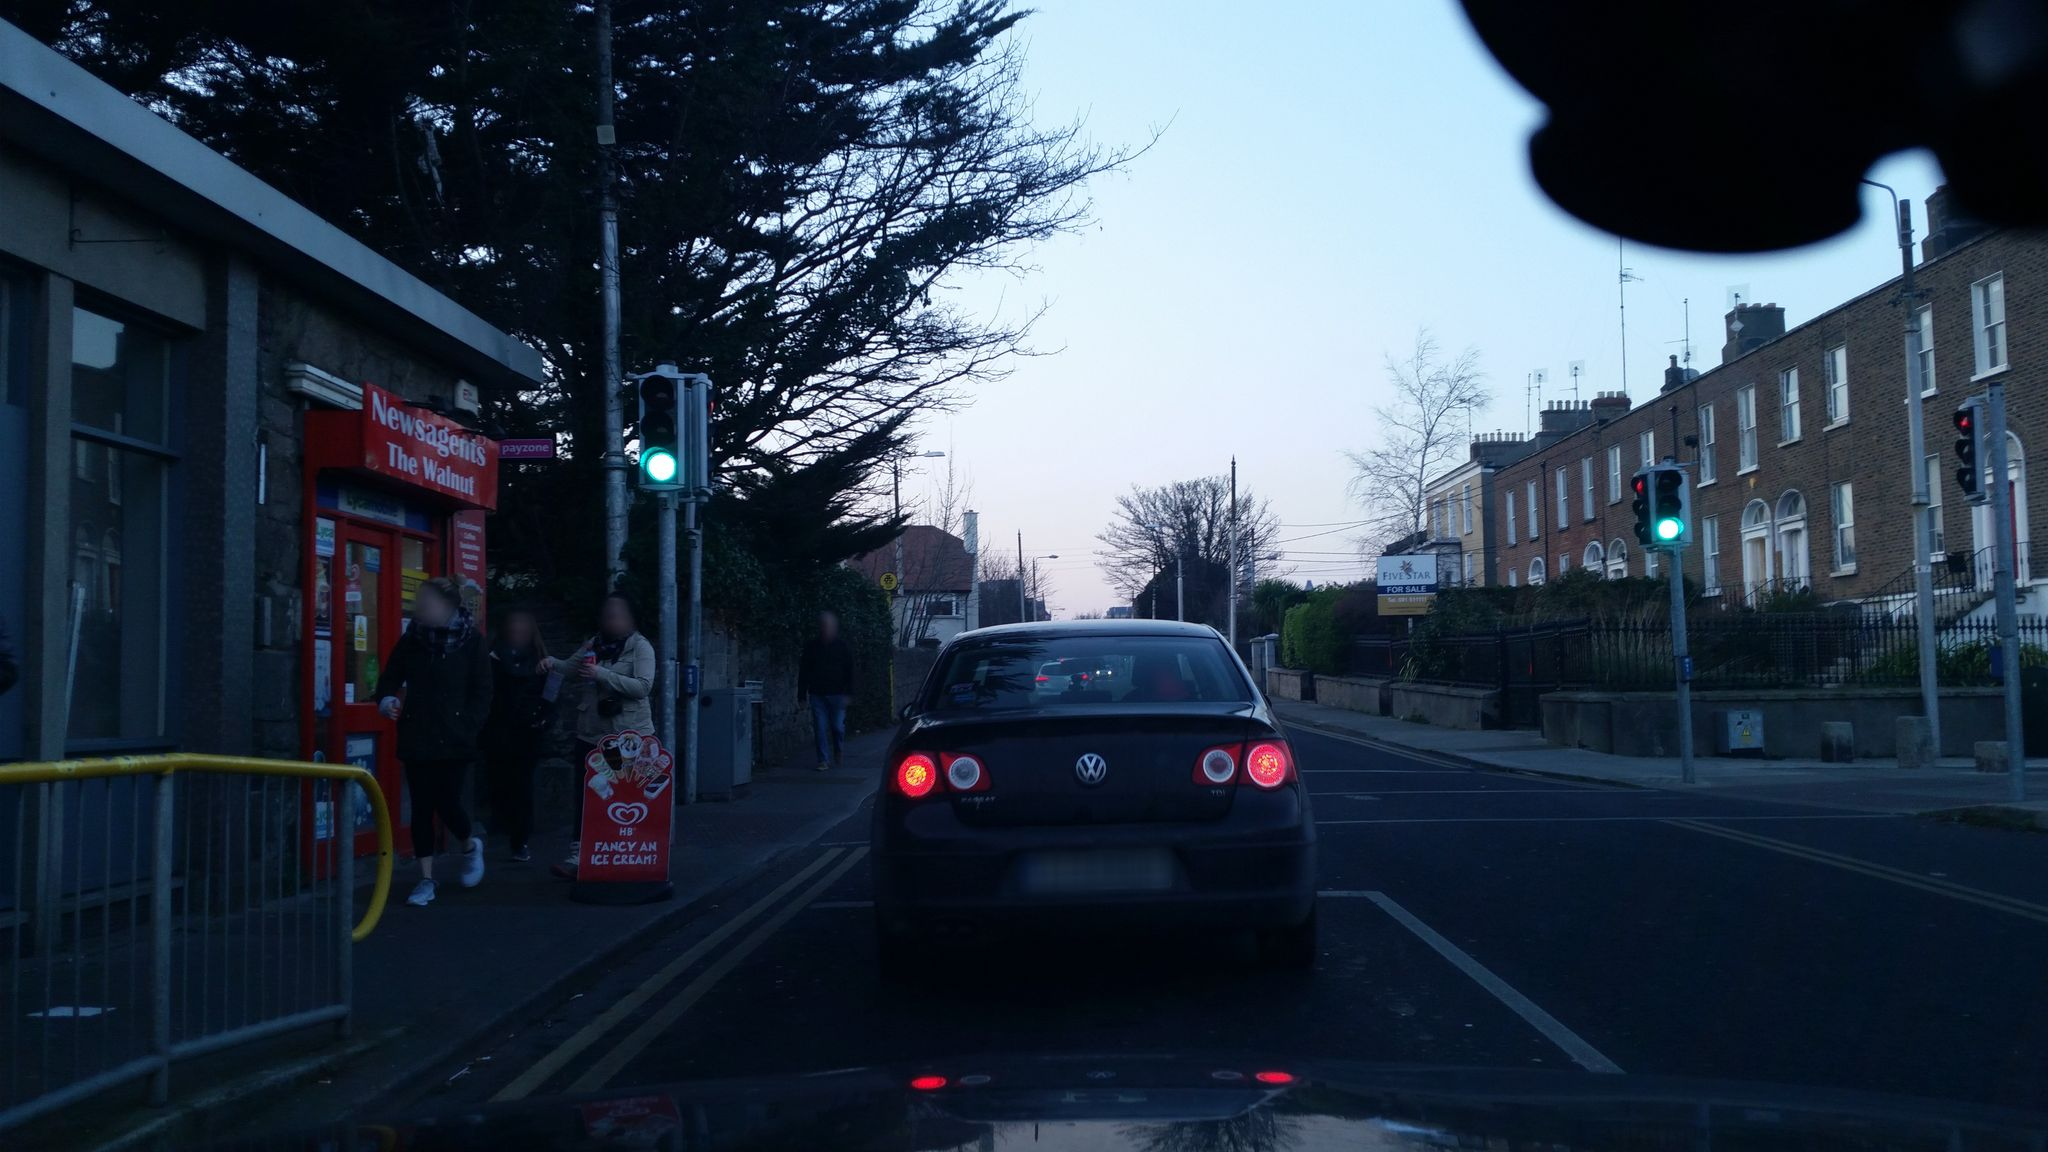property sign: (1357, 544, 1461, 633)
